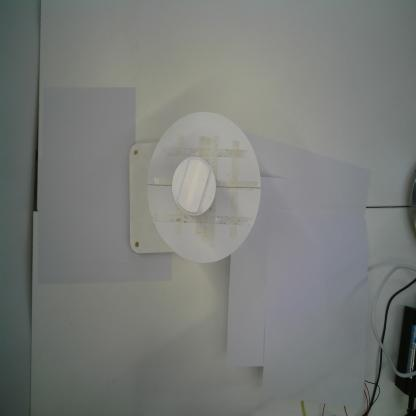Canned Food: (170, 155, 218, 218)
